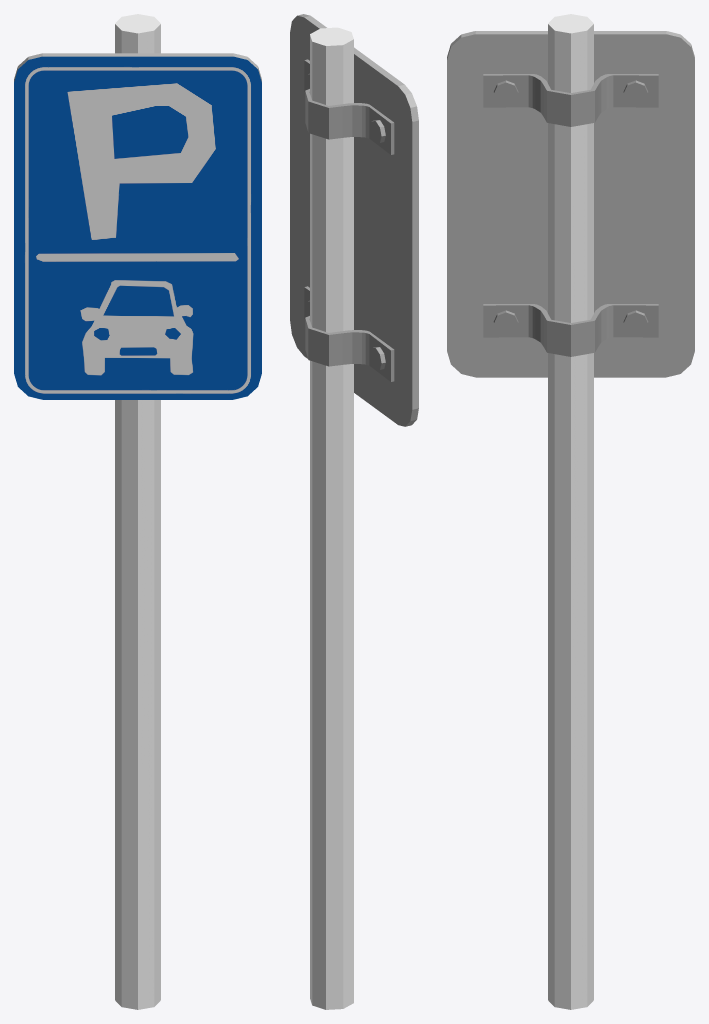
Rendered from parkingSign.glb.
3 views of the same model, side by side, from view 1: azimuth 90°, elevation 25°; view 2: azimuth 210°, elevation 25°; view 3: azimuth 270°, elevation 25° (orthographic).
Visible parts, largest first — view 1: Plane, Cylinder; view 2: Cylinder, Plane, Cube; view 3: Plane, Cylinder, Cube.
Part boxes in pixels (box(x1,y1,x2,y2)): Plane: box(14, 53, 261, 399); Cylinder: box(115, 14, 160, 1009); Cylinder: box(310, 27, 353, 1009); Plane: box(290, 14, 418, 426); Cube: box(304, 59, 394, 381); Plane: box(447, 31, 694, 377); Cylinder: box(548, 14, 593, 1009); Cube: box(483, 74, 658, 356).
Bounding box in the file's own units: 0.3108 × 5.79 × 1.33.
3 materials, 1 textured.
